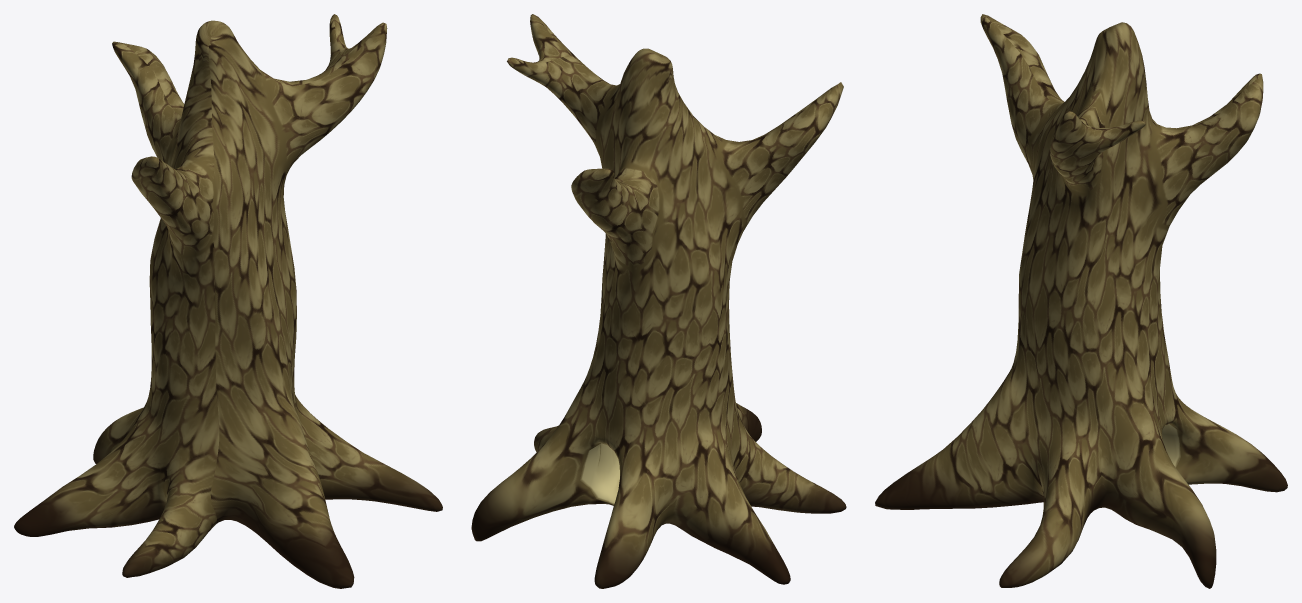
The model's file is NewStartingTree1.fbx.
The picture shows the model from 3 angles, left to right: view 1: azimuth 30°, elevation 25°; view 2: azimuth 150°, elevation 25°; view 3: azimuth 270°, elevation 25°; orthographic projection. The views are drawn at different scales.
Parts seen in each view (by area): view 1: Tree; view 2: Tree; view 3: Tree.
Boxes of the visible parts, x1,y1,x2,y2 form: Tree: (14, 14, 442, 588); Tree: (471, 14, 846, 588); Tree: (875, 14, 1287, 588).
Size of the model in its own units: 224 by 316 by 236.
Materials: 1 (1 with a texture image).
